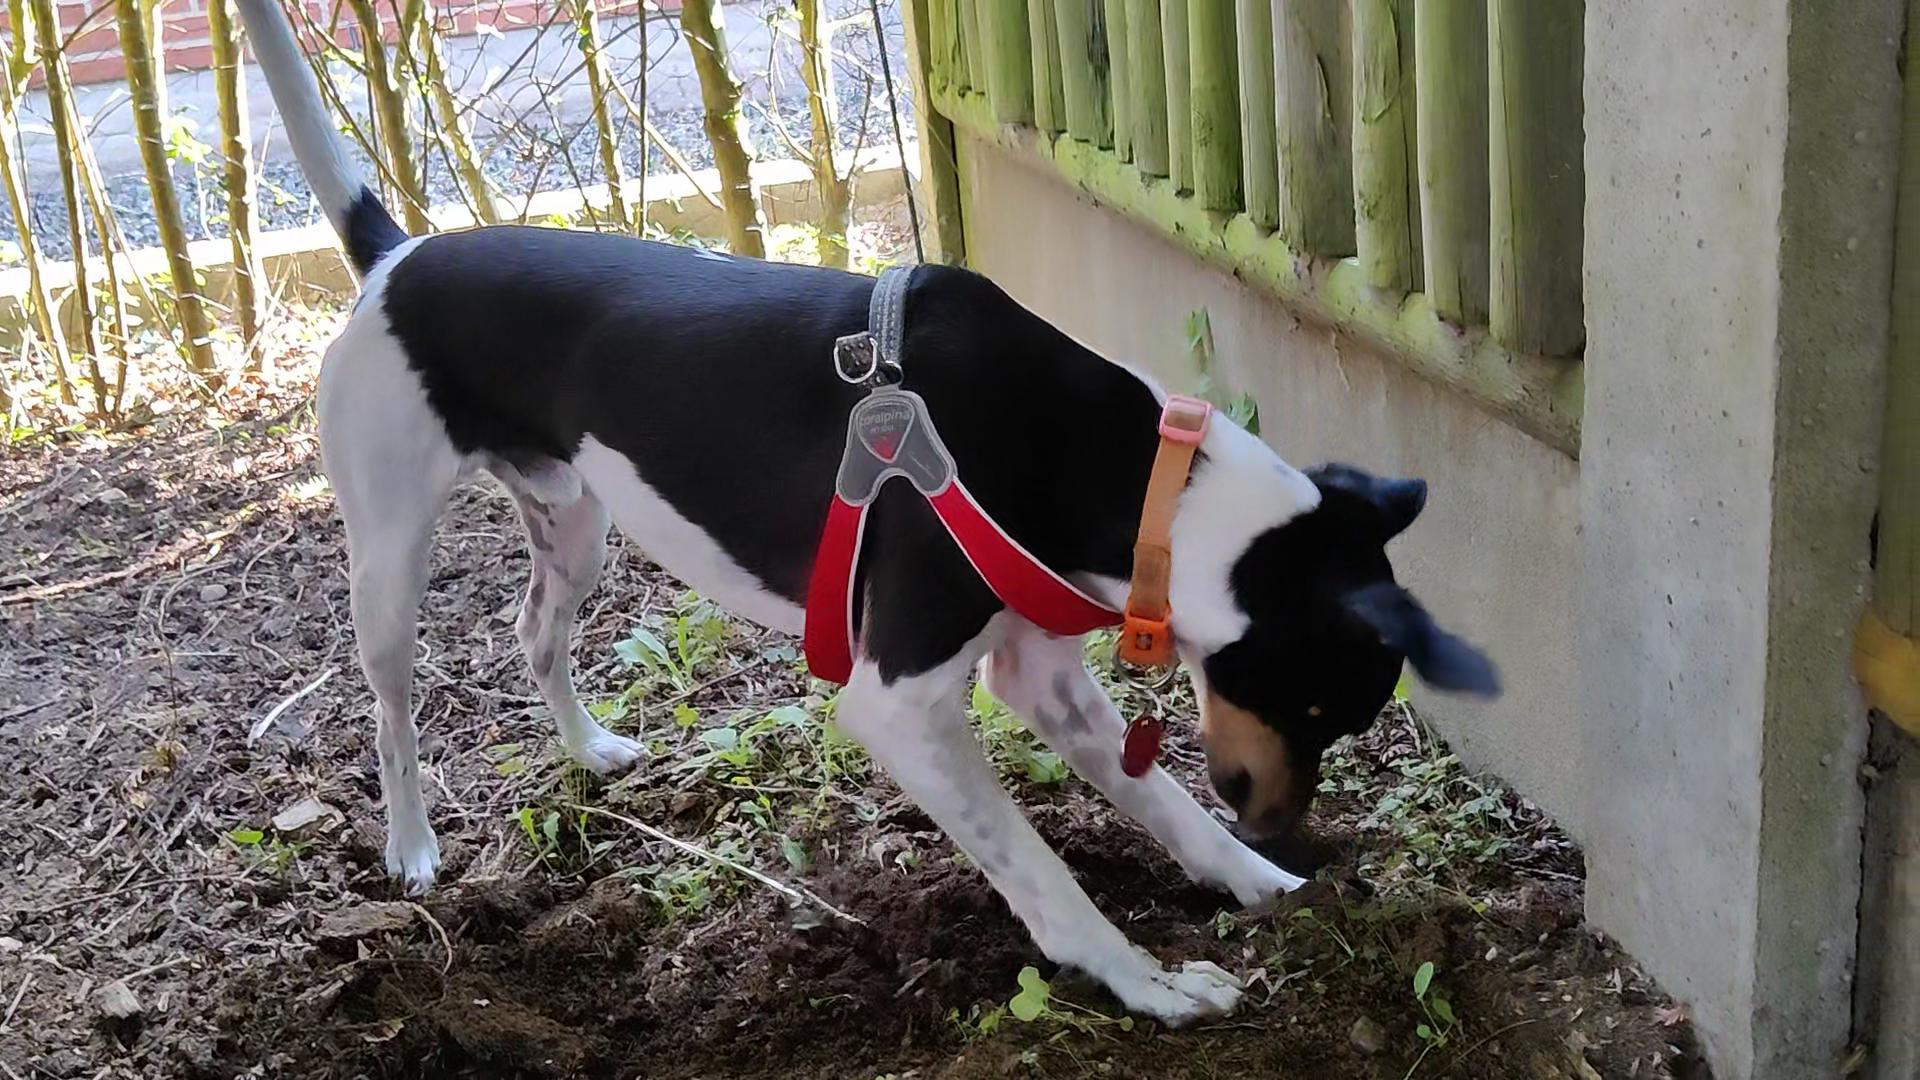Dog: (227, 0, 1518, 1033)
